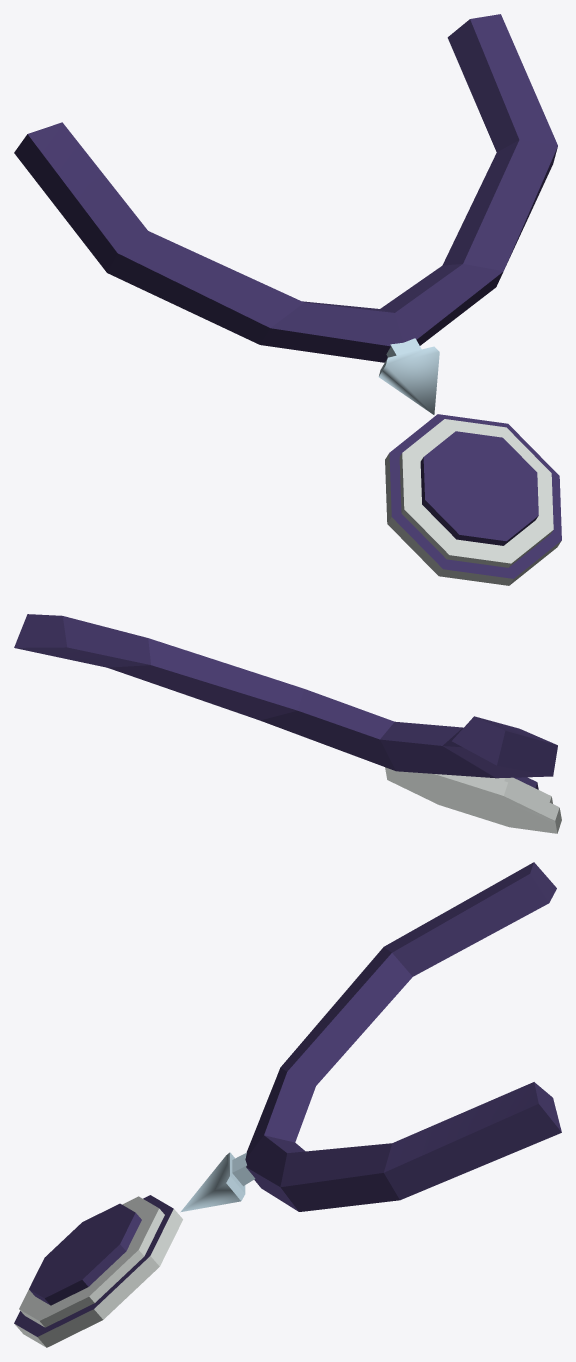
The model's file is Prop.Necklace_07.fbx.
The picture shows the model from 3 angles, top to bottom: view 1: azimuth 30°, elevation 25°; view 2: azimuth 150°, elevation 25°; view 3: azimuth 270°, elevation 25°; orthographic projection. The views are drawn at different scales.
Parts seen in each view (by area): view 1: Prop_Necklace_07; view 2: Prop_Necklace_07; view 3: Prop_Necklace_07.
Boxes of the visible parts, left/top/right/bottom form: Prop_Necklace_07: left=14, top=14, right=561, bottom=585; Prop_Necklace_07: left=14, top=614, right=561, bottom=833; Prop_Necklace_07: left=14, top=862, right=561, bottom=1347.
Bounding box in the file's own units: 17.17 × 11.59 × 16.12.
